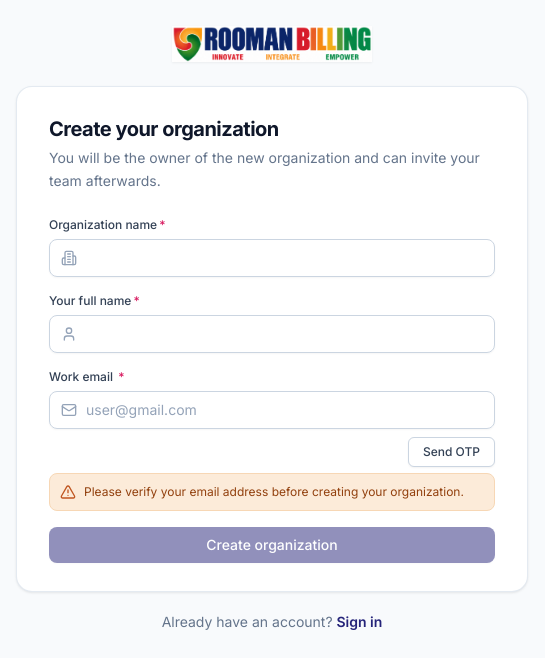
SignupPage: email OTP first, password after verification › does not request an OTP for an invalid email
Type "Acme Corp" into the field labelled "Organization name*" at [272, 258], box 49,239 -> 495,277
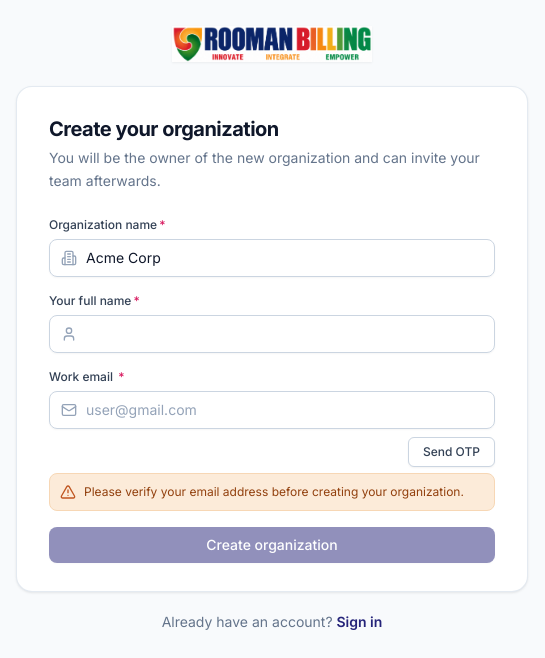
Type "Alex Owner" into the field labelled "Your full name*" at [272, 334], box 49,315 -> 495,353
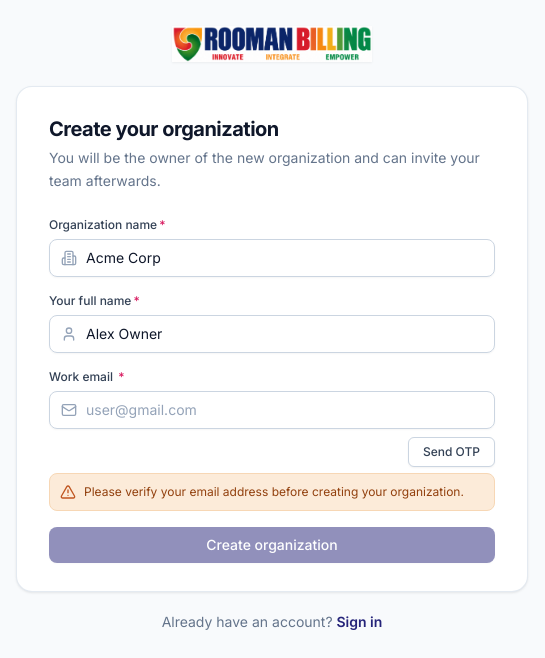
Type "not-an-email" into the field labelled "Work email *" at [272, 410], box 49,391 -> 495,429
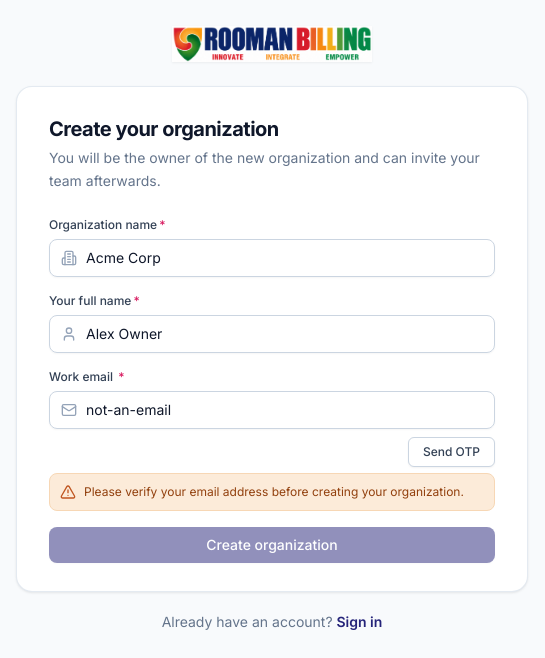
Click the button "Send OTP" at [452, 452], box 408,437 -> 495,467
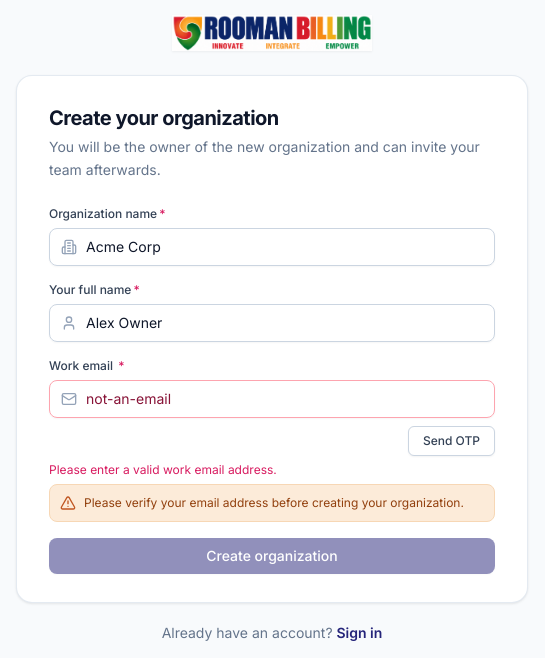
Expected: the text "Please enter a valid work email address." is shown, 49,462 -> 277,477
